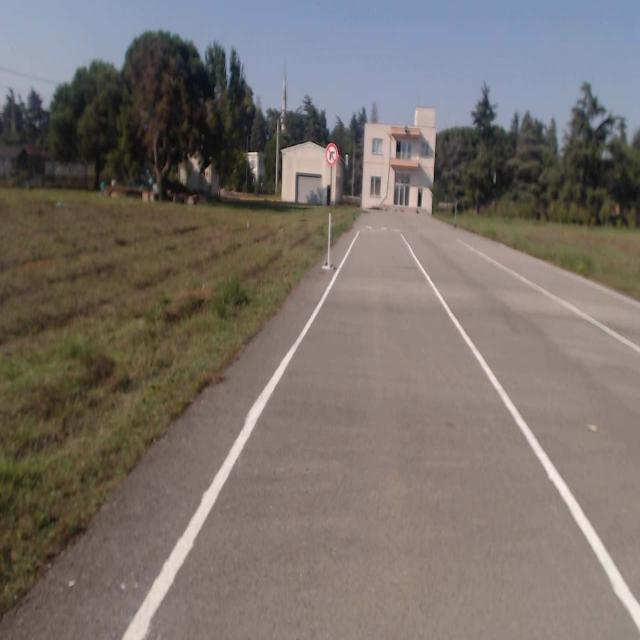sagadonulmez: (326, 143, 338, 165)
